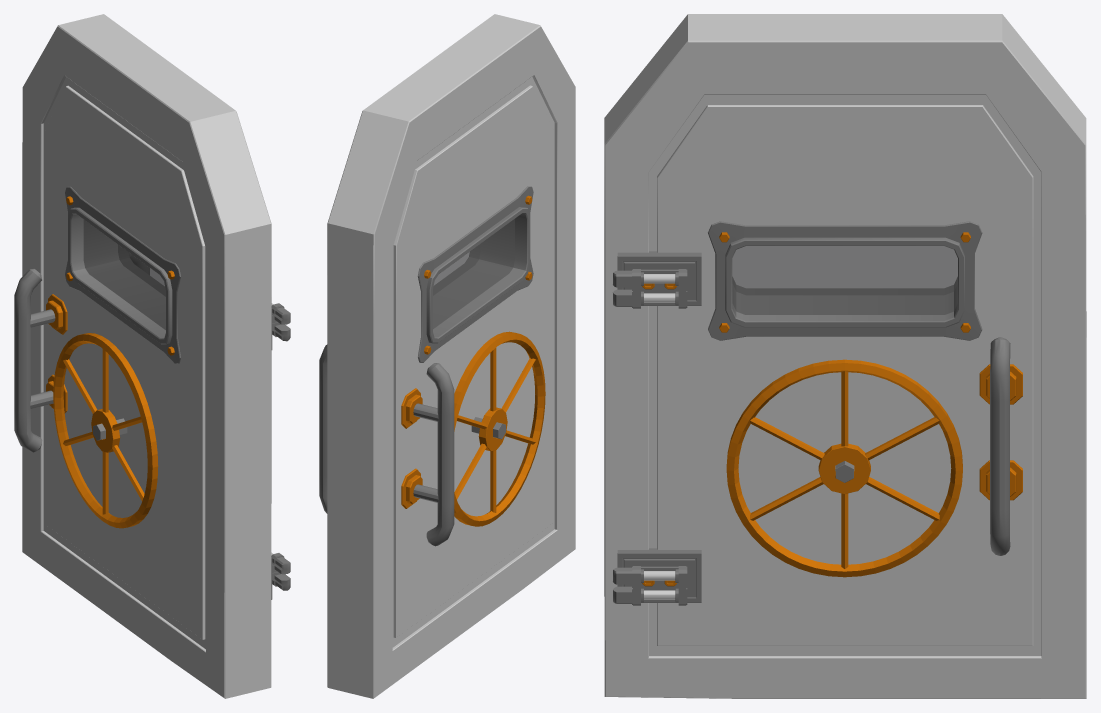
The model's file is Interior_Door.fbx.
3 renders of one model, left to right at view 1: azimuth 30°, elevation 25°; view 2: azimuth 150°, elevation 25°; view 3: azimuth 270°, elevation 25°, orthographic. The views are drawn at different scales.
Parts seen in each view (by area): view 1: Interior Door, Wheel Inside; view 2: Interior Door, Wheel Inside; view 3: Interior Door, Wheel Outside.
Boxes of the visible parts, box(x1,y1,x2,y2) form: Interior Door: box(14, 14, 290, 698); Wheel Inside: box(53, 333, 158, 528); Interior Door: box(319, 14, 575, 698); Wheel Inside: box(454, 331, 545, 526); Interior Door: box(604, 14, 1086, 698); Wheel Outside: box(726, 359, 962, 577).
Size of the model in its own units: 0.8289 by 2.18 by 3.29.
